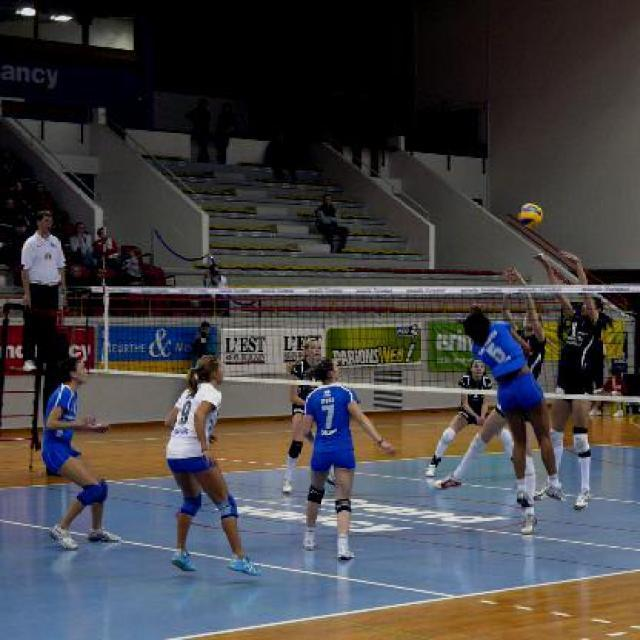volleyball: (518, 202, 542, 228)
